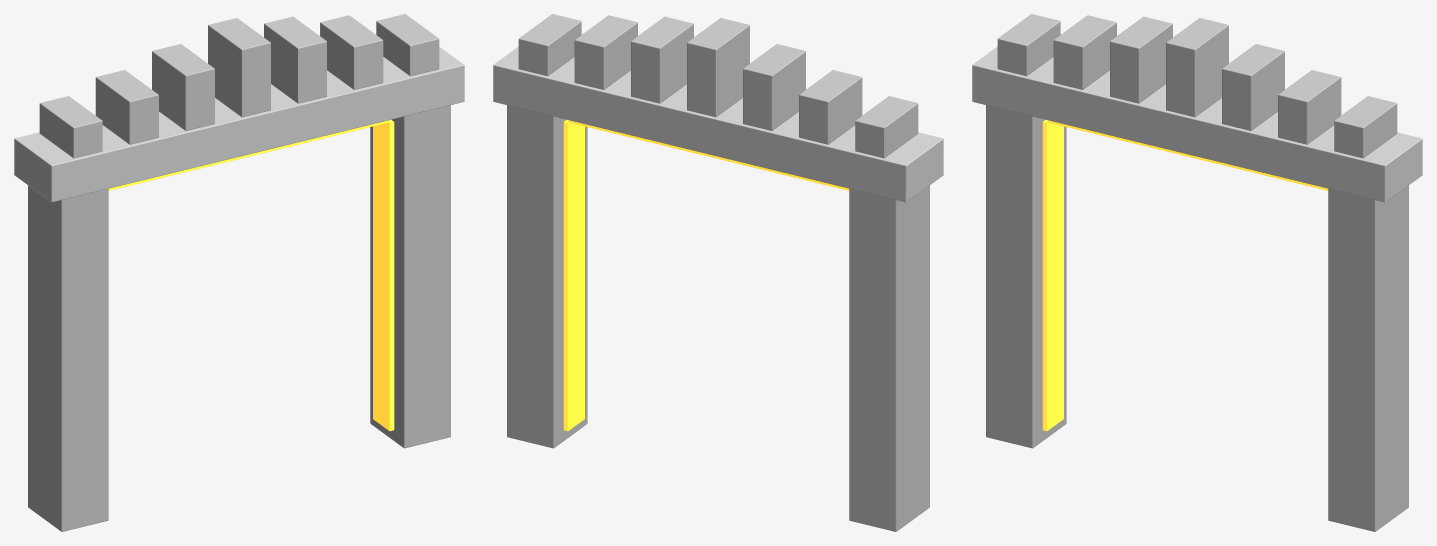
Rendered from mesopotamia_arch.fbx.
The picture shows the model from 3 angles, left to right: view 1: azimuth 30°, elevation 25°; view 2: azimuth 150°, elevation 25°; view 3: azimuth 330°, elevation 25°; orthographic projection.
Parts seen in each view (by area): view 1: mesopotamia_arch; view 2: mesopotamia_arch; view 3: mesopotamia_arch.
Part boxes in pixels (bbox=[...]): mesopotamia_arch: bbox=[14, 14, 464, 531]; mesopotamia_arch: bbox=[493, 14, 943, 531]; mesopotamia_arch: bbox=[972, 14, 1422, 531].
Size of the model in its own units: 7 by 7.1 by 1.1.
